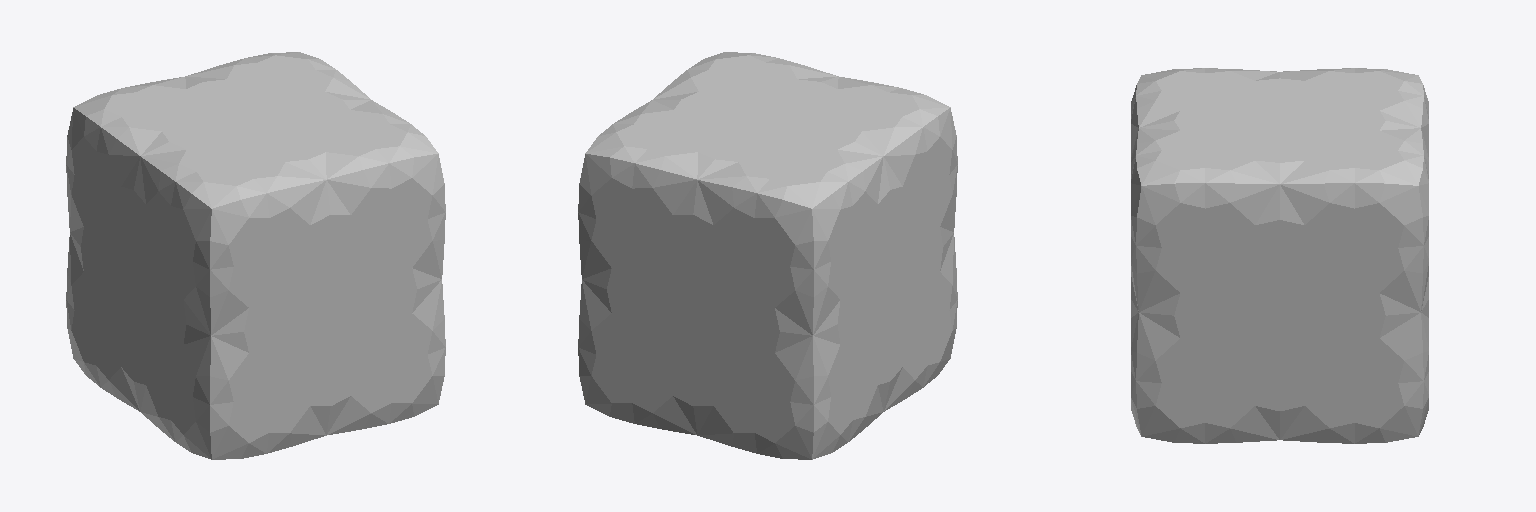
Rendered from boxy.obj.
3 renders of one model, left to right at view 1: azimuth 30°, elevation 25°; view 2: azimuth 150°, elevation 25°; view 3: azimuth 270°, elevation 25°, orthographic.
Parts seen in each view (by area): view 1: Box01; view 2: Box01; view 3: Box01.
Boxes of the visible parts, box(x1,y1,x2,y2) form: Box01: box(66, 52, 445, 459); Box01: box(578, 52, 957, 459); Box01: box(1131, 68, 1428, 443).
Size of the model in its own units: 0.9333 by 0.9867 by 0.9867.